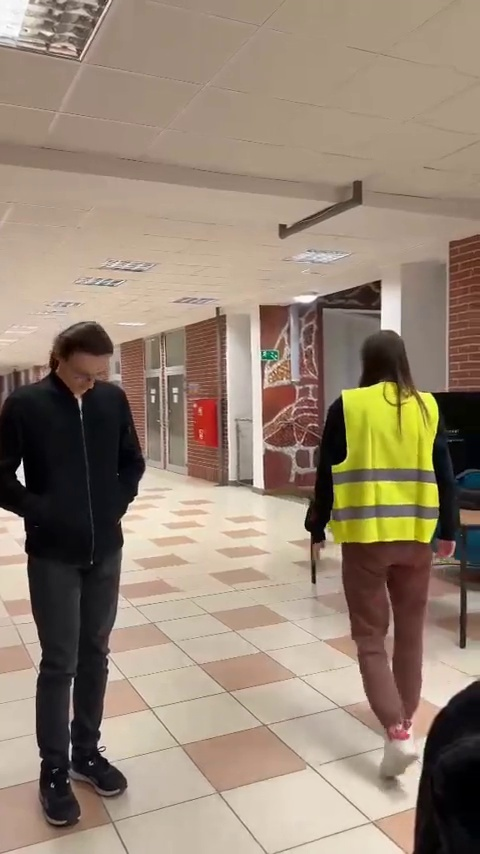no vest: (0, 317, 154, 827)
vest: (302, 328, 474, 783)
